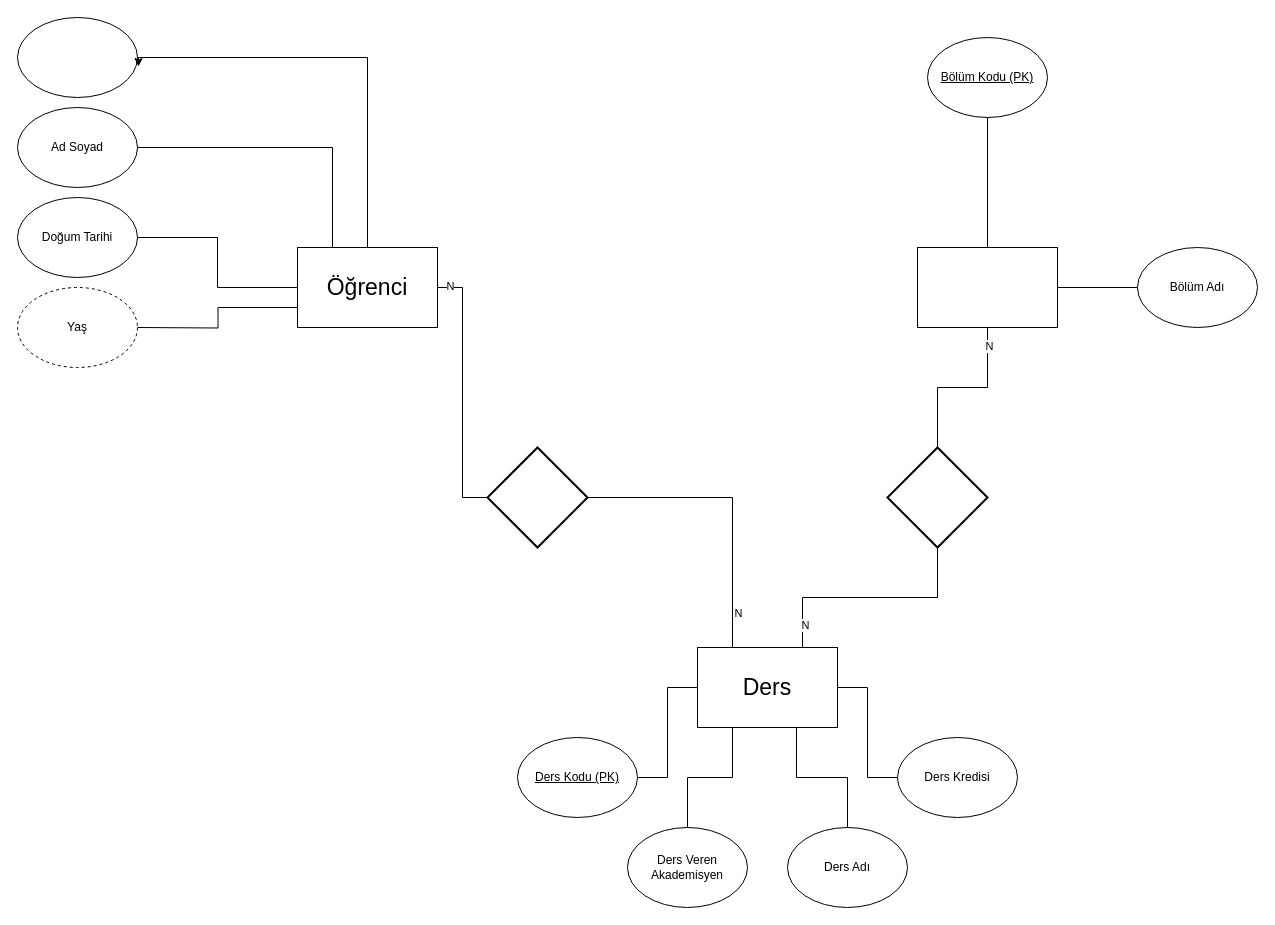
Some shapes in this 1275 by 925 pixel diagram are drawn without their labels. Here are the shapes that lost their labels. From the top down, the centre of each, then its label:
At (77,57): "Öğrenci Numarası(PK)".
At (987,287): "Bölüm".
At (537,497): "Seçer".
At (937,497): "Aittir".
